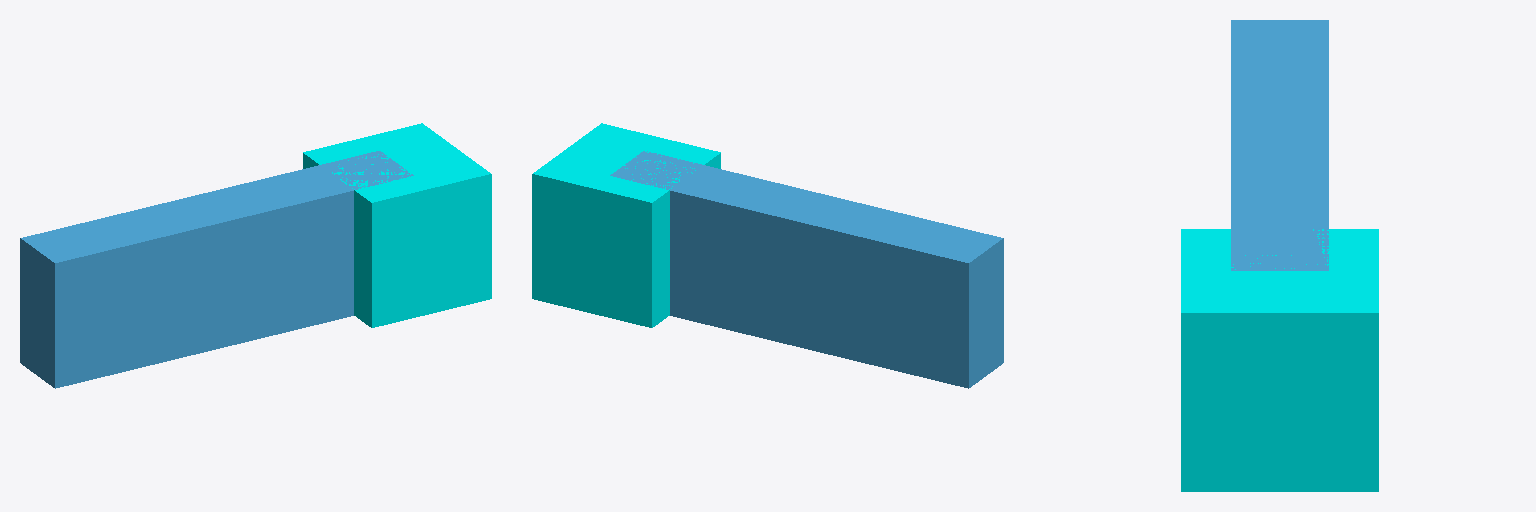
The robot description file, URDF, robot "simple":
<?xml version="1.0"?>
<robot name="simple">
    <link name="base_link">
    </link>

    <link name="arm">
    <visual>
        <geometry>
        <box size="0.6 0.1 0.2"/>
        </geometry>
    </visual>
    </link>

    <link name="eef">
    <visual>
        <geometry>
            <box size="0.2 0.2 0.2"/>
        </geometry>
        <material name="Cyan">
            <color rgba="0 1.0 1.0 1.0"/>
        </material>
    </visual>
    </link>

    <joint name="base_to_arm" type="revolute">
    <parent link="base_link"/>
        <child link="arm"/>
        <axis xyz="0 1 0"/>
        <limit lower="0.0" upper="0.548" effort="1000.0" velocity="0.5"/>
    </joint>
    
    <joint name="arm_to_eef" type="fixed">
        <parent link="arm"/>
        <child link="eef"/>
        <origin xyz="0.3 0.0 0.0"/>
    </joint>
    

</robot>

--- What the picture shows (computed from the rendered views, not written in the file) ---
The picture shows the robot from 3 angles, left to right: view 1: azimuth 30°, elevation 25°; view 2: azimuth 150°, elevation 25°; view 3: azimuth 270°, elevation 25°; orthographic projection.
Model simple with 3 links and 2 joints (1 revolute, 1 fixed), rooted at base_link, posed every joint at zero.
Visible links, largest first — view 1: arm, eef; view 2: arm, eef; view 3: eef, arm.
Link boxes in pixels (x1,y1,x2,y2): arm: [20, 151, 413, 388]; eef: [303, 123, 491, 327]; arm: [610, 151, 1003, 388]; eef: [532, 123, 720, 327]; eef: [1181, 229, 1378, 491]; arm: [1231, 20, 1328, 270].
Size in the robot's own frame: 0.7 by 0.2 by 0.2 metres.
Geometry: primitives only (box / cylinder / sphere), no mesh files.